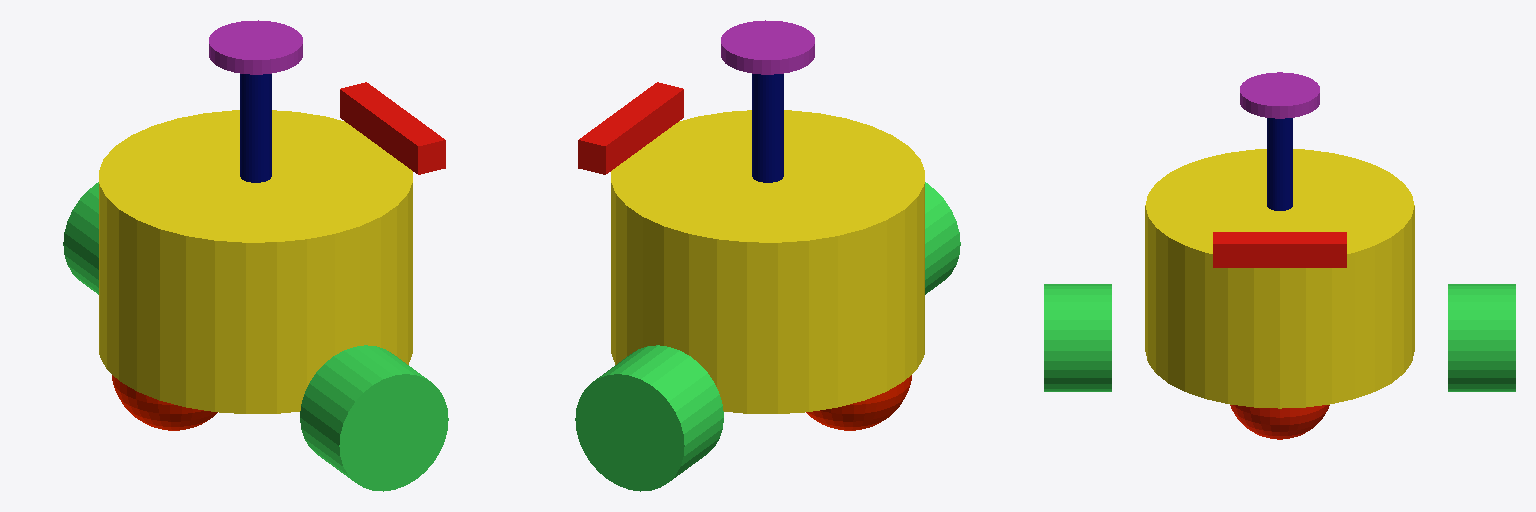
URDF robot description (robot):
<robot name="robot">
  <link name="base_footprint"></link>
  <joint name="base_joint" type="fixed">
    <parent link="base_footprint" />
    <child link="base_link" />
    <origin xyz="0 0 0" rpy="0 0 0" />
  </joint>
  <link name="base_link">
    <visual>
      <origin xyz="0 0 0" rpy="0 0 0" />
      <geometry>
        <cylinder radius="0.1" length="0.12" />
      </geometry>
      <material name="base_link-material">
        <color rgba="0.9473065367320066 0.8713671191959567 0.14702726648767014 1" />
      </material>
    </visual>
    <collision>
      <origin xyz="0 0 0" rpy="0 0 0" />
      <geometry>
        <cylinder radius="0.5" length="1" />
      </geometry>
    </collision>
    <inertial>
      <origin xyz="0 0 0" rpy="0 0 0" />
      <mass value="200" />
      <inertia ixx="66.66666666666666" ixy="0" ixz="0" iyy="100" iyz="0" izz="66.66666666666666" />
    </inertial>
  </link>
  <joint name="base_link_to_imu" type="fixed">
    <parent link="base_link" />
    <child link="imu" />
    <origin xyz="0 0 0" rpy="0 0 0" />
  </joint>
  <link name="imu">
    <visual>
      <origin xyz="0 0 0" rpy="0 0 0" />
      <geometry>
        <box size="0.1 0.1 0.1" />
      </geometry>
      <material name="imu-material">
        <color rgba="0.9215818562755338 0.11953842797895521 0.08228270712149792 1" />
      </material>
    </visual>
    <collision>
      <origin xyz="0 0 0" rpy="0 0 0" />
      <geometry>
        <box size="0.1 0.1 0.1" />
      </geometry>
    </collision>
    <inertial>
      <origin xyz="0 0 0" rpy="0 0 0" />
      <mass value="1" />
      <inertia ixx="0.16666666666666666" ixy="0" ixz="0" iyy="0.16666666666666666" iyz="0" izz="0.16666666666666666" />
    </inertial>
        <sensor type="imu" name="imu">
            <always_on>true</always_on>
            <update_rate>100</update_rate>
            <origin>0 0 0 0 0 0</origin>
            <imu>
                <noise>
                    <type>gaussian</type>
                    <mean>0</mean>
                    <stddev>0</stddev>
                </noise>
            </imu>
        </sensor>
      </link>
  <joint name="base_link_to_camera" type="fixed">
    <parent link="base_link" />
    <child link="camera" />
    <origin xyz="0.1 0 0.07" rpy="0 0 0" />
  </joint>
  <link name="camera">
    <visual>
      <origin xyz="0 0 0" rpy="0 0 0" />
      <geometry>
        <box size="0.02 0.1 0.02" />
      </geometry>
      <material name="camera-material">
        <color rgba="0.9215818562755338 0.11953842797895521 0.08228270712149792 1" />
      </material>
    </visual>
    <collision>
      <origin xyz="0 0 0" rpy="0 0 0" />
      <geometry>
        <box size="0.02 0.1 0.02" />
      </geometry>
    </collision>
    <inertial>
      <origin xyz="0 0 0" rpy="0 0 0" />
      <mass value="1" />
      <inertia ixx="0.16666666666666666" ixy="0" ixz="0" iyy="0.16666666666666666" iyz="0" izz="0.16666666666666666" />
    </inertial>
        <sensor name="camera" type="camera">
            <always_on>true</always_on>
            <update_rate>100</update_rate>
            <origin>0.1 0 0.07 0 0 0</origin>
            <camera>
                <horizontal_fov>1.3962634</horizontal_fov>
                <image>
                    <width>800</width>
                    <height>600</height>
                    <format>R8G8B8</format>
                </image>
                <clip>
                    <near>0.1</near>
                    <far>100</far>
                </clip>
                <noise>
                    <type>gaussian</type>
                    <mean>0.01</mean>
                </noise>
            </camera>
        </sensor>
      </link>
  <joint name="base_link_to_front_chaster" type="fixed">
    <parent link="base_link" />
    <child link="front_chaster" />
    <origin xyz="0.06 0 -0.06" rpy="0 0 0" />
  </joint>
  <link name="front_chaster">
    <visual>
      <origin xyz="0 0 0" rpy="0 0 0" />
      <geometry>
        <sphere radius="0.04" />
      </geometry>
      <material name="front_chaster-material">
        <color rgba="1 0.181164244239483 0.04231141061442144 1" />
      </material>
    </visual>
    <collision>
      <origin xyz="0 0 0" rpy="0 0 0" />
      <geometry>
        <sphere radius="0.04" />
      </geometry>
    </collision>
    <inertial>
      <origin xyz="0 0 0" rpy="0 0 0" />
      <mass value="1" />
      <inertia ixx="0.4" ixy="0" ixz="0" iyy="0.4" iyz="0" izz="0.4" />
    </inertial>
  </link>
  <joint name="base_link_to_back_chaster" type="fixed">
    <parent link="base_link" />
    <child link="back_chaster" />
    <origin xyz="-0.06 0 -0.06" rpy="0 0 0" />
  </joint>
  <link name="back_chaster">
    <visual>
      <origin xyz="0 0 0" rpy="0 0 0" />
      <geometry>
        <sphere radius="0.04" />
      </geometry>
      <material name="back_chaster-material">
        <color rgba="1 0.1878207722902346 0 1" />
      </material>
    </visual>
    <collision>
      <origin xyz="0 0 0" rpy="0 0 0" />
      <geometry>
        <sphere radius="0.04" />
      </geometry>
    </collision>
    <inertial>
      <origin xyz="0 0 0" rpy="0 0 0" />
      <mass value="1" />
      <inertia ixx="0.4" ixy="0" ixz="0" iyy="0.4" iyz="0" izz="0.4" />
    </inertial>
  </link>
  <joint name="base_link_to_lidar" type="fixed">
    <parent link="base_link" />
    <child link="lidar" />
    <origin xyz="0 0 0.15000000000000002" rpy="0 0 0" />
  </joint>
  <link name="lidar">
    <visual>
      <origin xyz="0 0 0" rpy="0 0 0" />
      <geometry>
        <cylinder radius="0.03" length="0.01" />
      </geometry>
      <material name="lidar-material">
        <color rgba="0.7156935005005721 0.2541520943200296 0.7230551289161951 1" />
      </material>
    </visual>
    <collision>
      <origin xyz="0 0 0" rpy="0 0 0" />
      <geometry>
        <cylinder radius="0.03" length="0.01" />
      </geometry>
    </collision>
    <inertial>
      <origin xyz="0 0 0" rpy="0 0 0" />
      <mass value="1" />
      <inertia ixx="0.3333333333333333" ixy="0" ixz="0" iyy="0.5" iyz="0" izz="0.3333333333333333" />
    </inertial>

        <sensor type="lidar" name="lidar">
            <always_on>true</always_on>
            <update_rate>5</update_rate>
            <origin>0 0 0.15000000000000002 0 0 0</origin>
            <ray>
                <scan>
                    <horizontal>
                        <samples>360</samples>
                        <resolution>1</resolution>
                        <min_angle>0</min_angle>
                        <max_angle>6.28</max_angle>
                    </horizontal>
                    <range>
                        <min>0.12</min>
                        <max>3.5</max>
                        <resolution>0.015</resolution>
                    </range>
                </scan>
                <noise>
                    <type>gaussian</type>
                    <mean>0</mean>
                    <stddev>0.01</stddev>
                </noise>
            </ray>
        </sensor>
      </link>
  <joint name="base_link_to_left_wheel" type="continuous">
    <parent link="base_link" />
    <child link="left_wheel" />
    <origin xyz="0 0.15 -0.04880298219344714" rpy="-1.5707963267948963 0 0" />
    <axis xyz="0 0 1"/>
  </joint>
  <link name="left_wheel">
    <visual>
      <origin xyz="0 0 0" rpy="0 0 0" />
      <geometry>
        <cylinder radius="0.04" length="0.05" />
      </geometry>
      <material name="left_wheel-material">
        <color rgba="0.2746773120495699 0.8713671191959567 0.3712376804636741 1" />
      </material>
    </visual>
    <collision>
      <origin xyz="0 0 0" rpy="0 0 0" />
      <geometry>
        <cylinder radius="0.04" length="0.05" />
      </geometry>
    </collision>
    <inertial>
      <origin xyz="0 0 0" rpy="0 0 0" />
      <mass value="1" />
      <inertia ixx="0.3333333333333333" ixy="0" ixz="0" iyy="0.5" iyz="0" izz="0.3333333333333333" />
    </inertial>
  </link>
  <joint name="base_link_to_right_wheel" type="continuous">
    <parent link="base_link" />
    <child link="right_wheel" />
    <origin xyz="0 -0.15 -0.04880298219344714" rpy="-1.5707963267948963 0 0" />
    <axis xyz="0 0 1"/>
  </joint>
  <link name="right_wheel">
    <visual>
      <origin xyz="0 0 0" rpy="0 0 0" />
      <geometry>
        <cylinder radius="0.04" length="0.05" />
      </geometry>
      <material name="right_wheel-material">
        <color rgba="0.2746773120495699 0.8713671191959567 0.3712376804636741 1" />
      </material>
    </visual>
    <collision>
      <origin xyz="0 0 0" rpy="0 0 0" />
      <geometry>
        <cylinder radius="0.04" length="0.05" />
      </geometry>
    </collision>
    <inertial>
      <origin xyz="0 0 0" rpy="0 0 0" />
      <mass value="1" />
      <inertia ixx="0.3333333333333333" ixy="0" ixz="0" iyy="0.5" iyz="0" izz="0.3333333333333333" />
    </inertial>
  </link>
  <joint name="base_link_to_lidar_support" type="fixed">
    <parent link="base_link" />
    <child link="lidar_support" />
    <origin xyz="0 0 0.1" rpy="0 0 0" />
  </joint>
  <link name="lidar_support">
    <visual>
      <origin xyz="0 0 0" rpy="0 0 0" />
      <geometry>
        <cylinder radius="0.01" length="0.1" />
      </geometry>
      <material name="lidar_support-material">
        <color rgba="0.04666508633021928 0.08228270712149792 0.4735314961384573 1" />
      </material>
    </visual>
    <collision>
      <origin xyz="0 0 0" rpy="0 0 0" />
      <geometry>
        <cylinder radius="0.5" length="1" />
      </geometry>
    </collision>
    <inertial>
      <origin xyz="0 0 0" rpy="0 0 0" />
      <mass value="1" />
      <inertia ixx="0.3333333333333333" ixy="0" ixz="0" iyy="0.5" iyz="0" izz="0.3333333333333333" />
    </inertial>
  </link>
</robot>

--- Facts derived from the render (not from the file) ---
3 views of the same robot in one strip: view 1: azimuth 30°, elevation 25°; view 2: azimuth 150°, elevation 25°; view 3: azimuth 270°, elevation 25° (orthographic).
Model robot with 10 links and 9 joints (2 continuous, 7 fixed), rooted at base_footprint, posed every joint at zero.
Links seen in each view (by area): view 1: base_link, right_wheel, camera, lidar, lidar_support, left_wheel, back_chaster; view 2: base_link, left_wheel, camera, lidar, lidar_support, right_wheel, back_chaster; view 3: base_link, left_wheel, right_wheel, camera, lidar, lidar_support, front_chaster.
Link boxes in pixels (x1,y1,x2,y2): base_link: (99,110,412,413); right_wheel: (300,345,448,491); camera: (340,82,445,174); lidar: (209,20,302,74); lidar_support: (240,74,271,182); left_wheel: (63,182,98,294); back_chaster: (112,375,217,430); base_link: (611,110,924,413); left_wheel: (575,345,723,491); camera: (578,82,683,174); lidar: (721,20,814,74); lidar_support: (752,74,783,182); right_wheel: (925,182,960,294); back_chaster: (806,375,911,430); base_link: (1145,149,1414,408); left_wheel: (1448,284,1515,391); right_wheel: (1044,284,1111,391); camera: (1213,232,1346,267); lidar: (1240,72,1319,118); lidar_support: (1267,118,1292,210); front_chaster: (1230,405,1329,439).
Bounding box of the posed robot: 0.21 × 0.35 × 0.255 m (x, y, z).
Geometry: primitives only (box / cylinder / sphere), no mesh files.